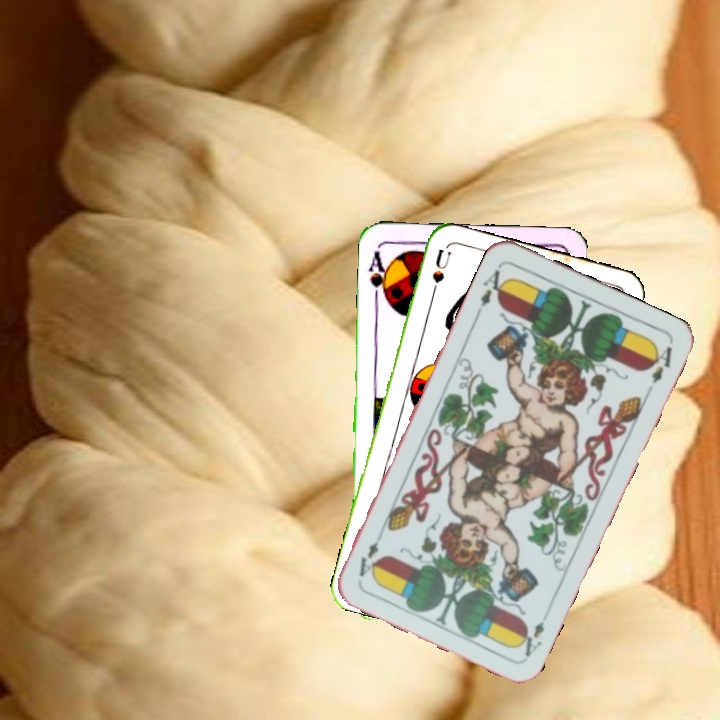EA: (472, 262, 512, 318), (514, 606, 553, 660)
SA: (364, 247, 392, 304)
SU: (426, 246, 454, 305)
